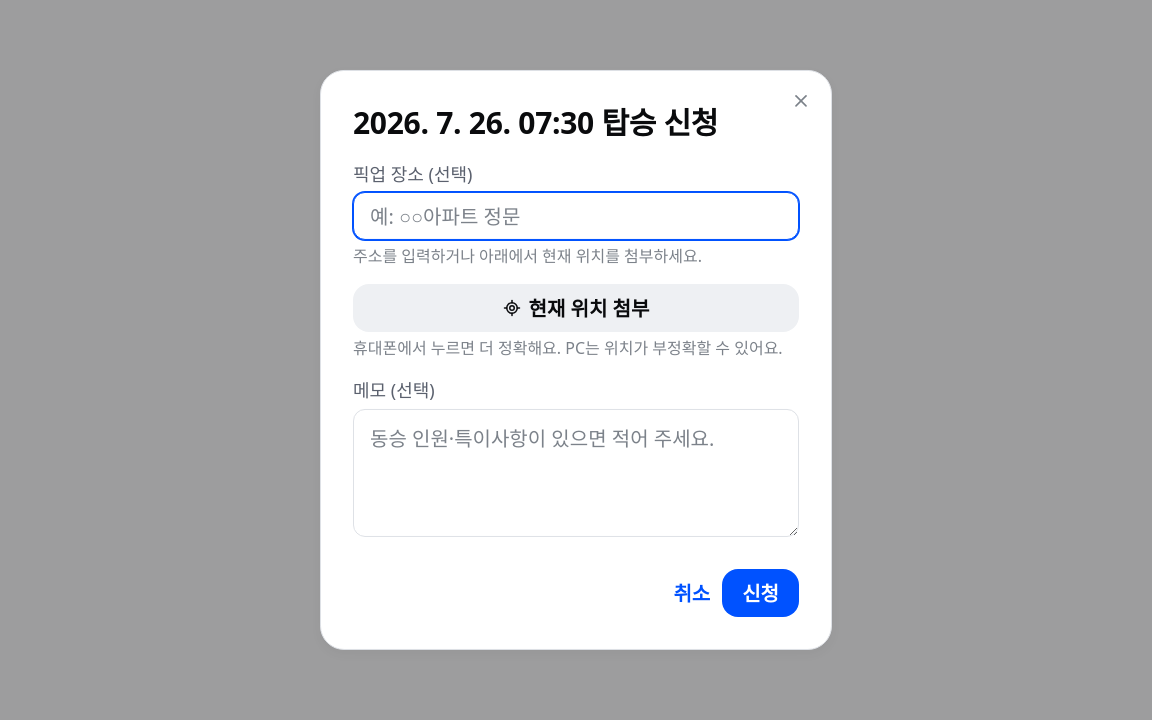
Test case: VehicleApplyDialog › 위치 첨부 후 지우면 다시 검증에 걸린다
The image size is (1152, 720).
Click the button "현재 위치 첨부" at (576, 308), box [353,284,799,332]
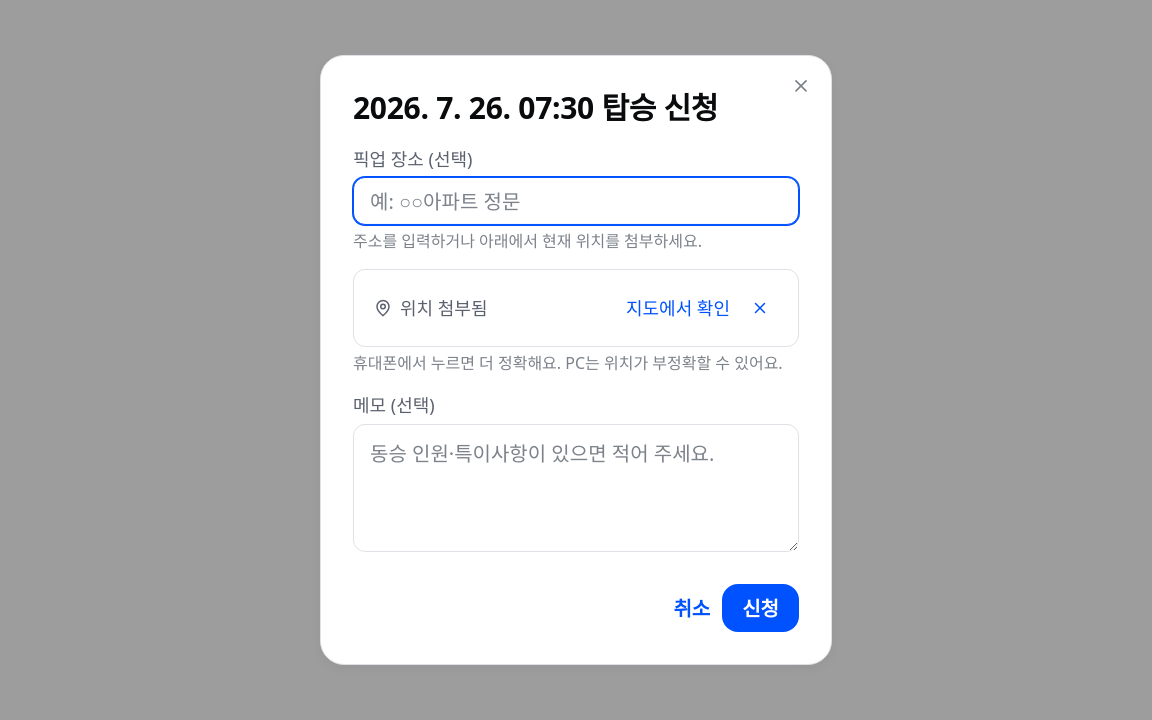
Expected: the text "위치 첨부됨" is shown, [374,294,488,323]
Click the button named "첨부한 위치 지우기" at (760, 308), box [742,290,778,326]
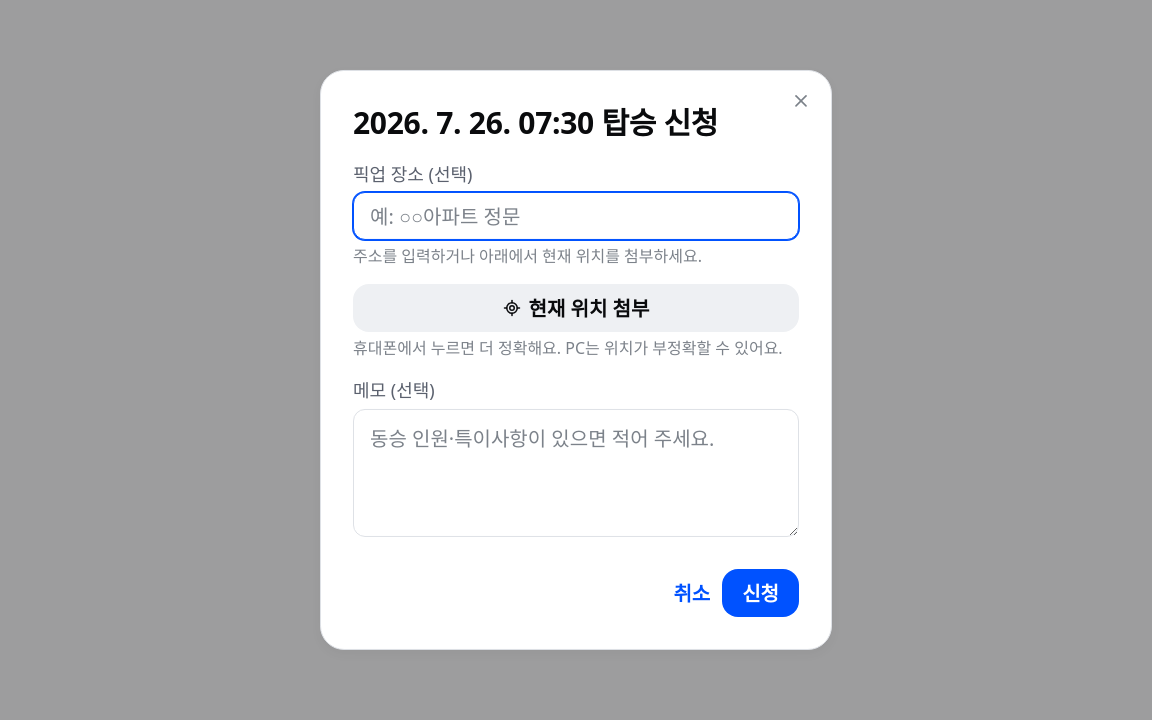
Click the button "신청" at (761, 593), box [722,569,799,617]
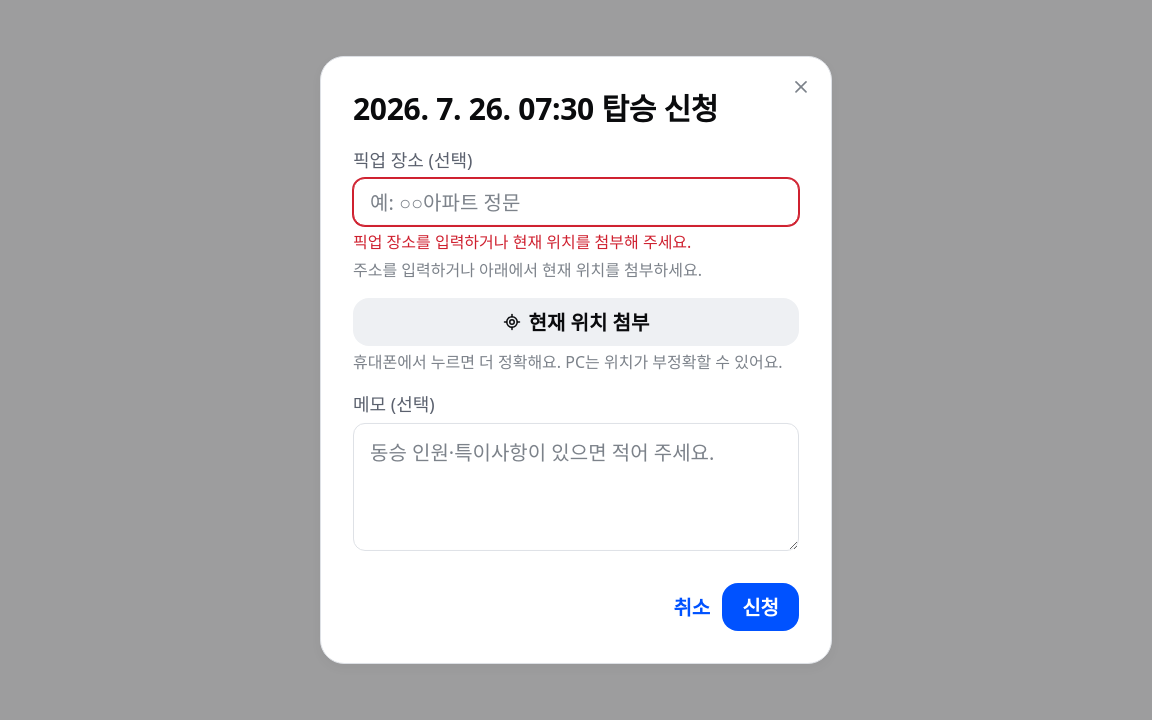
Expected: the text "픽업 장소를 입력하거나 현재 위치를 첨부해 주세요." is shown, [353,231,691,253]
